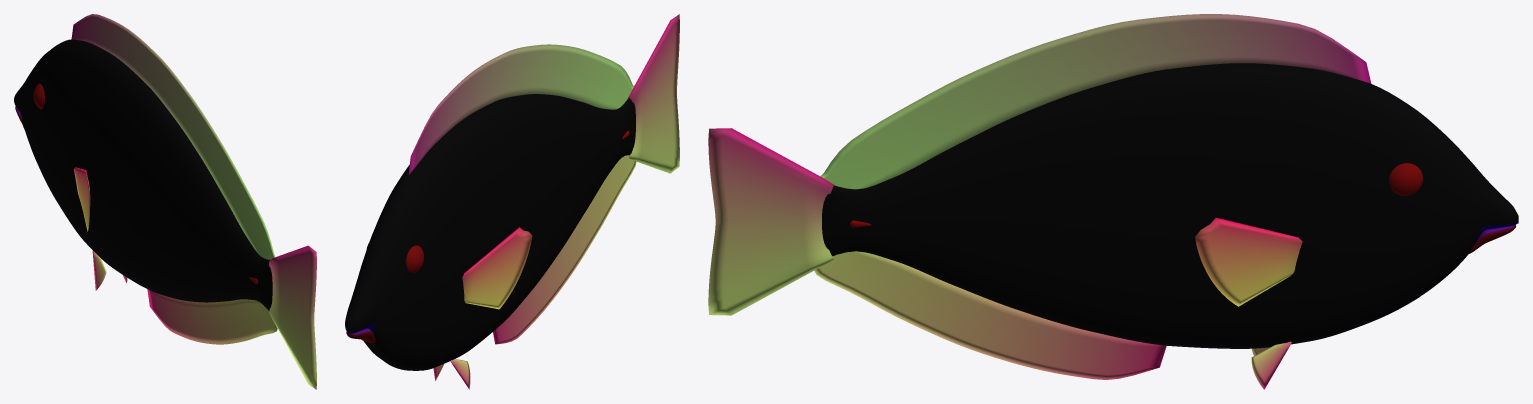
The model's file is surgeonfish_powder_blue.glb.
3 renders of one model, left to right at view 1: azimuth 30°, elevation 25°; view 2: azimuth 150°, elevation 25°; view 3: azimuth 270°, elevation 25°, orthographic. The views are drawn at different scales.
Visible parts, largest first — view 1: surgeonfish_powder_blue; view 2: surgeonfish_powder_blue; view 3: surgeonfish_powder_blue.
Part boxes in pixels (x1,y1,x2,y2): surgeonfish_powder_blue: (14, 14, 316, 389); surgeonfish_powder_blue: (345, 14, 679, 389); surgeonfish_powder_blue: (708, 14, 1518, 389).
Size of the model in its own units: 0.0437 by 0.121 by 0.2427.
